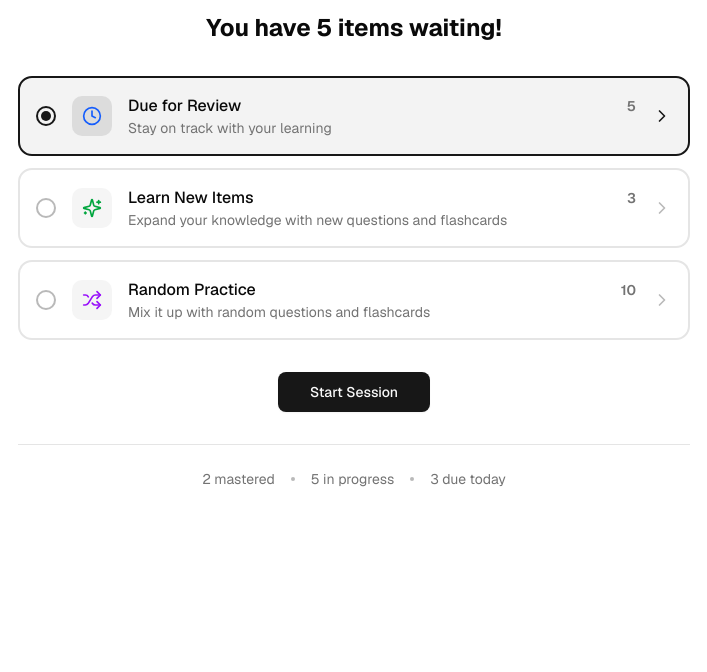
Test case: ReviewInterface › question review flow › enables submit button after selecting an option
The image size is (707, 672).
Click the button "Start Session": coordinates (354, 392) [278,372,430,412]
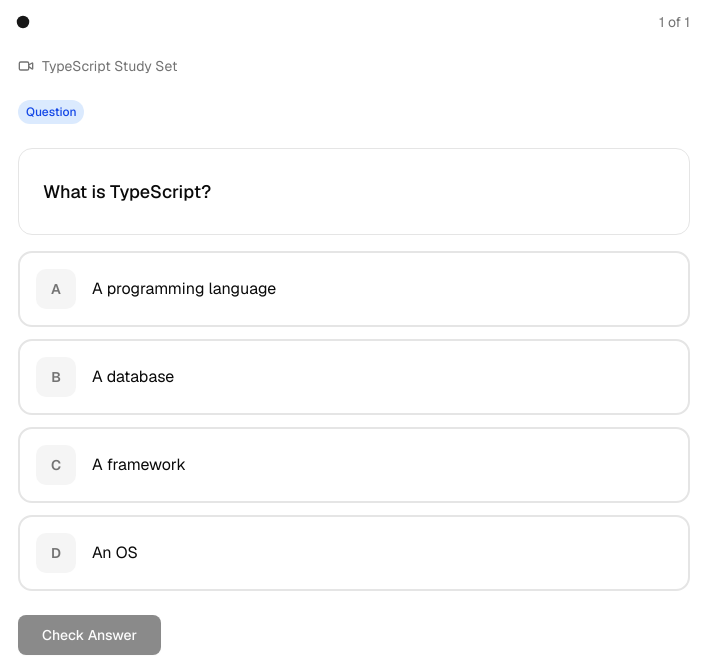
Expected: the text "What is TypeScript?" is shown, [43,180,211,203]
# Click on an option
Click the text "A programming language": coordinates (184, 289) [92,278,276,299]
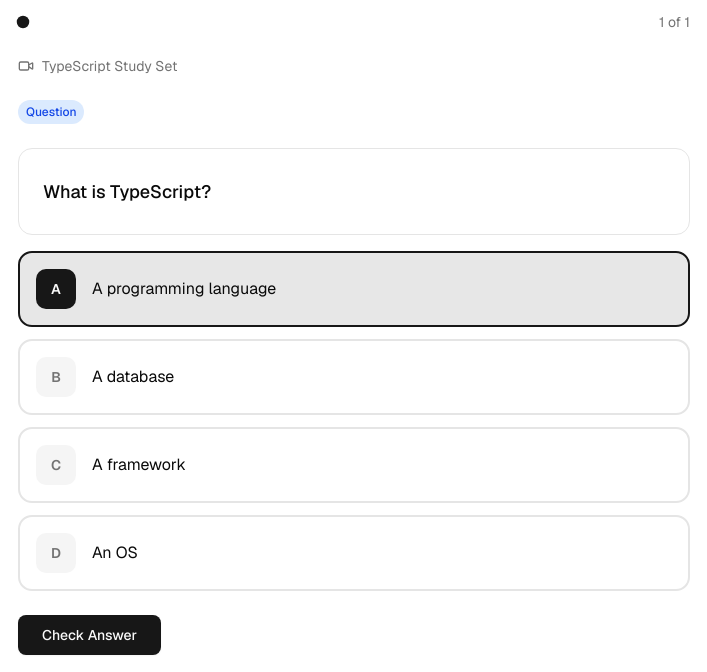
Expected: the button "Check Answer" is enabled, [18,615,161,655]
